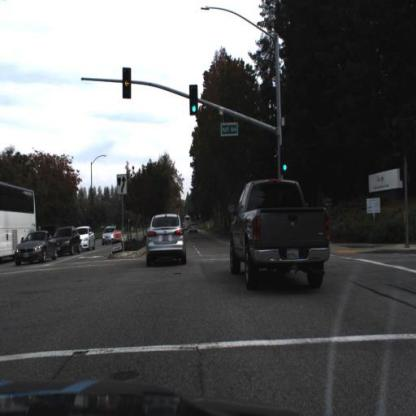car: (230, 176, 331, 290), (145, 211, 187, 264), (14, 228, 58, 264), (56, 226, 80, 252), (79, 224, 93, 249), (102, 226, 116, 242)
trafficLight: (122, 68, 132, 99)
trafficLight-Green: (189, 86, 199, 115), (281, 145, 291, 173)
truck: (0, 183, 38, 262)
